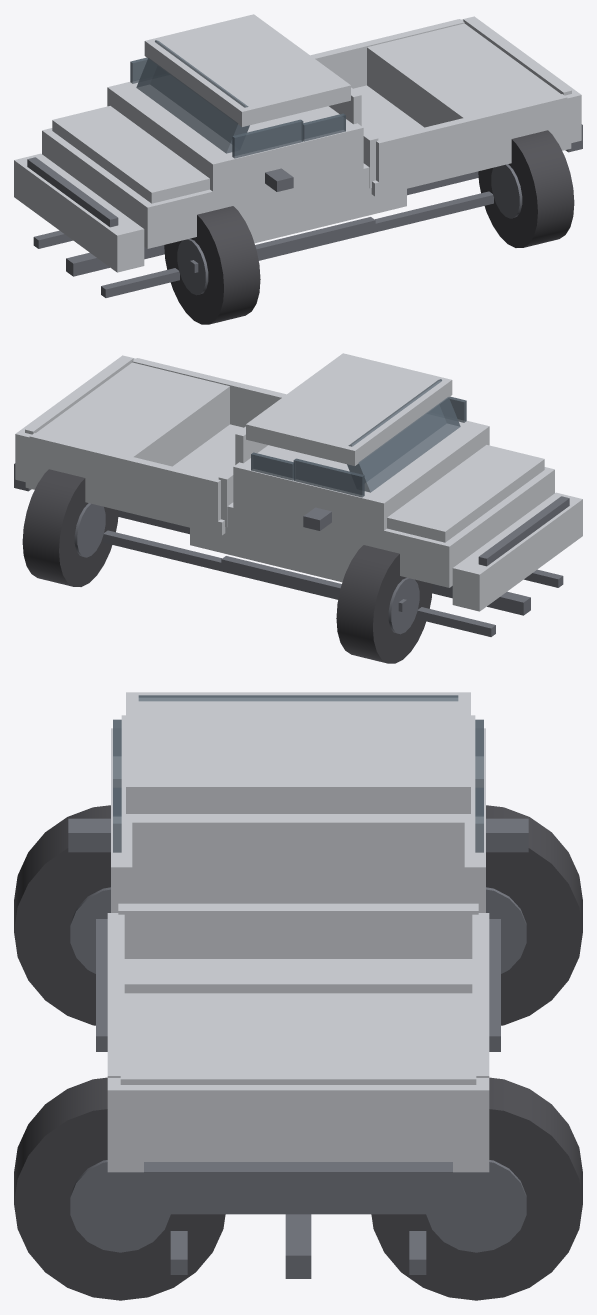
Rendered from vw-amarok.glb.
3 renders of one model, top to bottom at view 1: azimuth 30°, elevation 25°; view 2: azimuth 150°, elevation 25°; view 3: azimuth 270°, elevation 25°, orthographic. The views are drawn at different scales.
Visible parts, largest first — view 1: Vehicle; view 2: Vehicle; view 3: Vehicle.
Boxes of the visible parts, x1=… form: Vehicle: x1=14, y1=14, x2=582, y2=324; Vehicle: x1=14, y1=353, x2=582, y2=663; Vehicle: x1=14, y1=692, x2=582, y2=1300.
Bounding box in the file's own units: 4.56 × 1.82 × 2.67.
